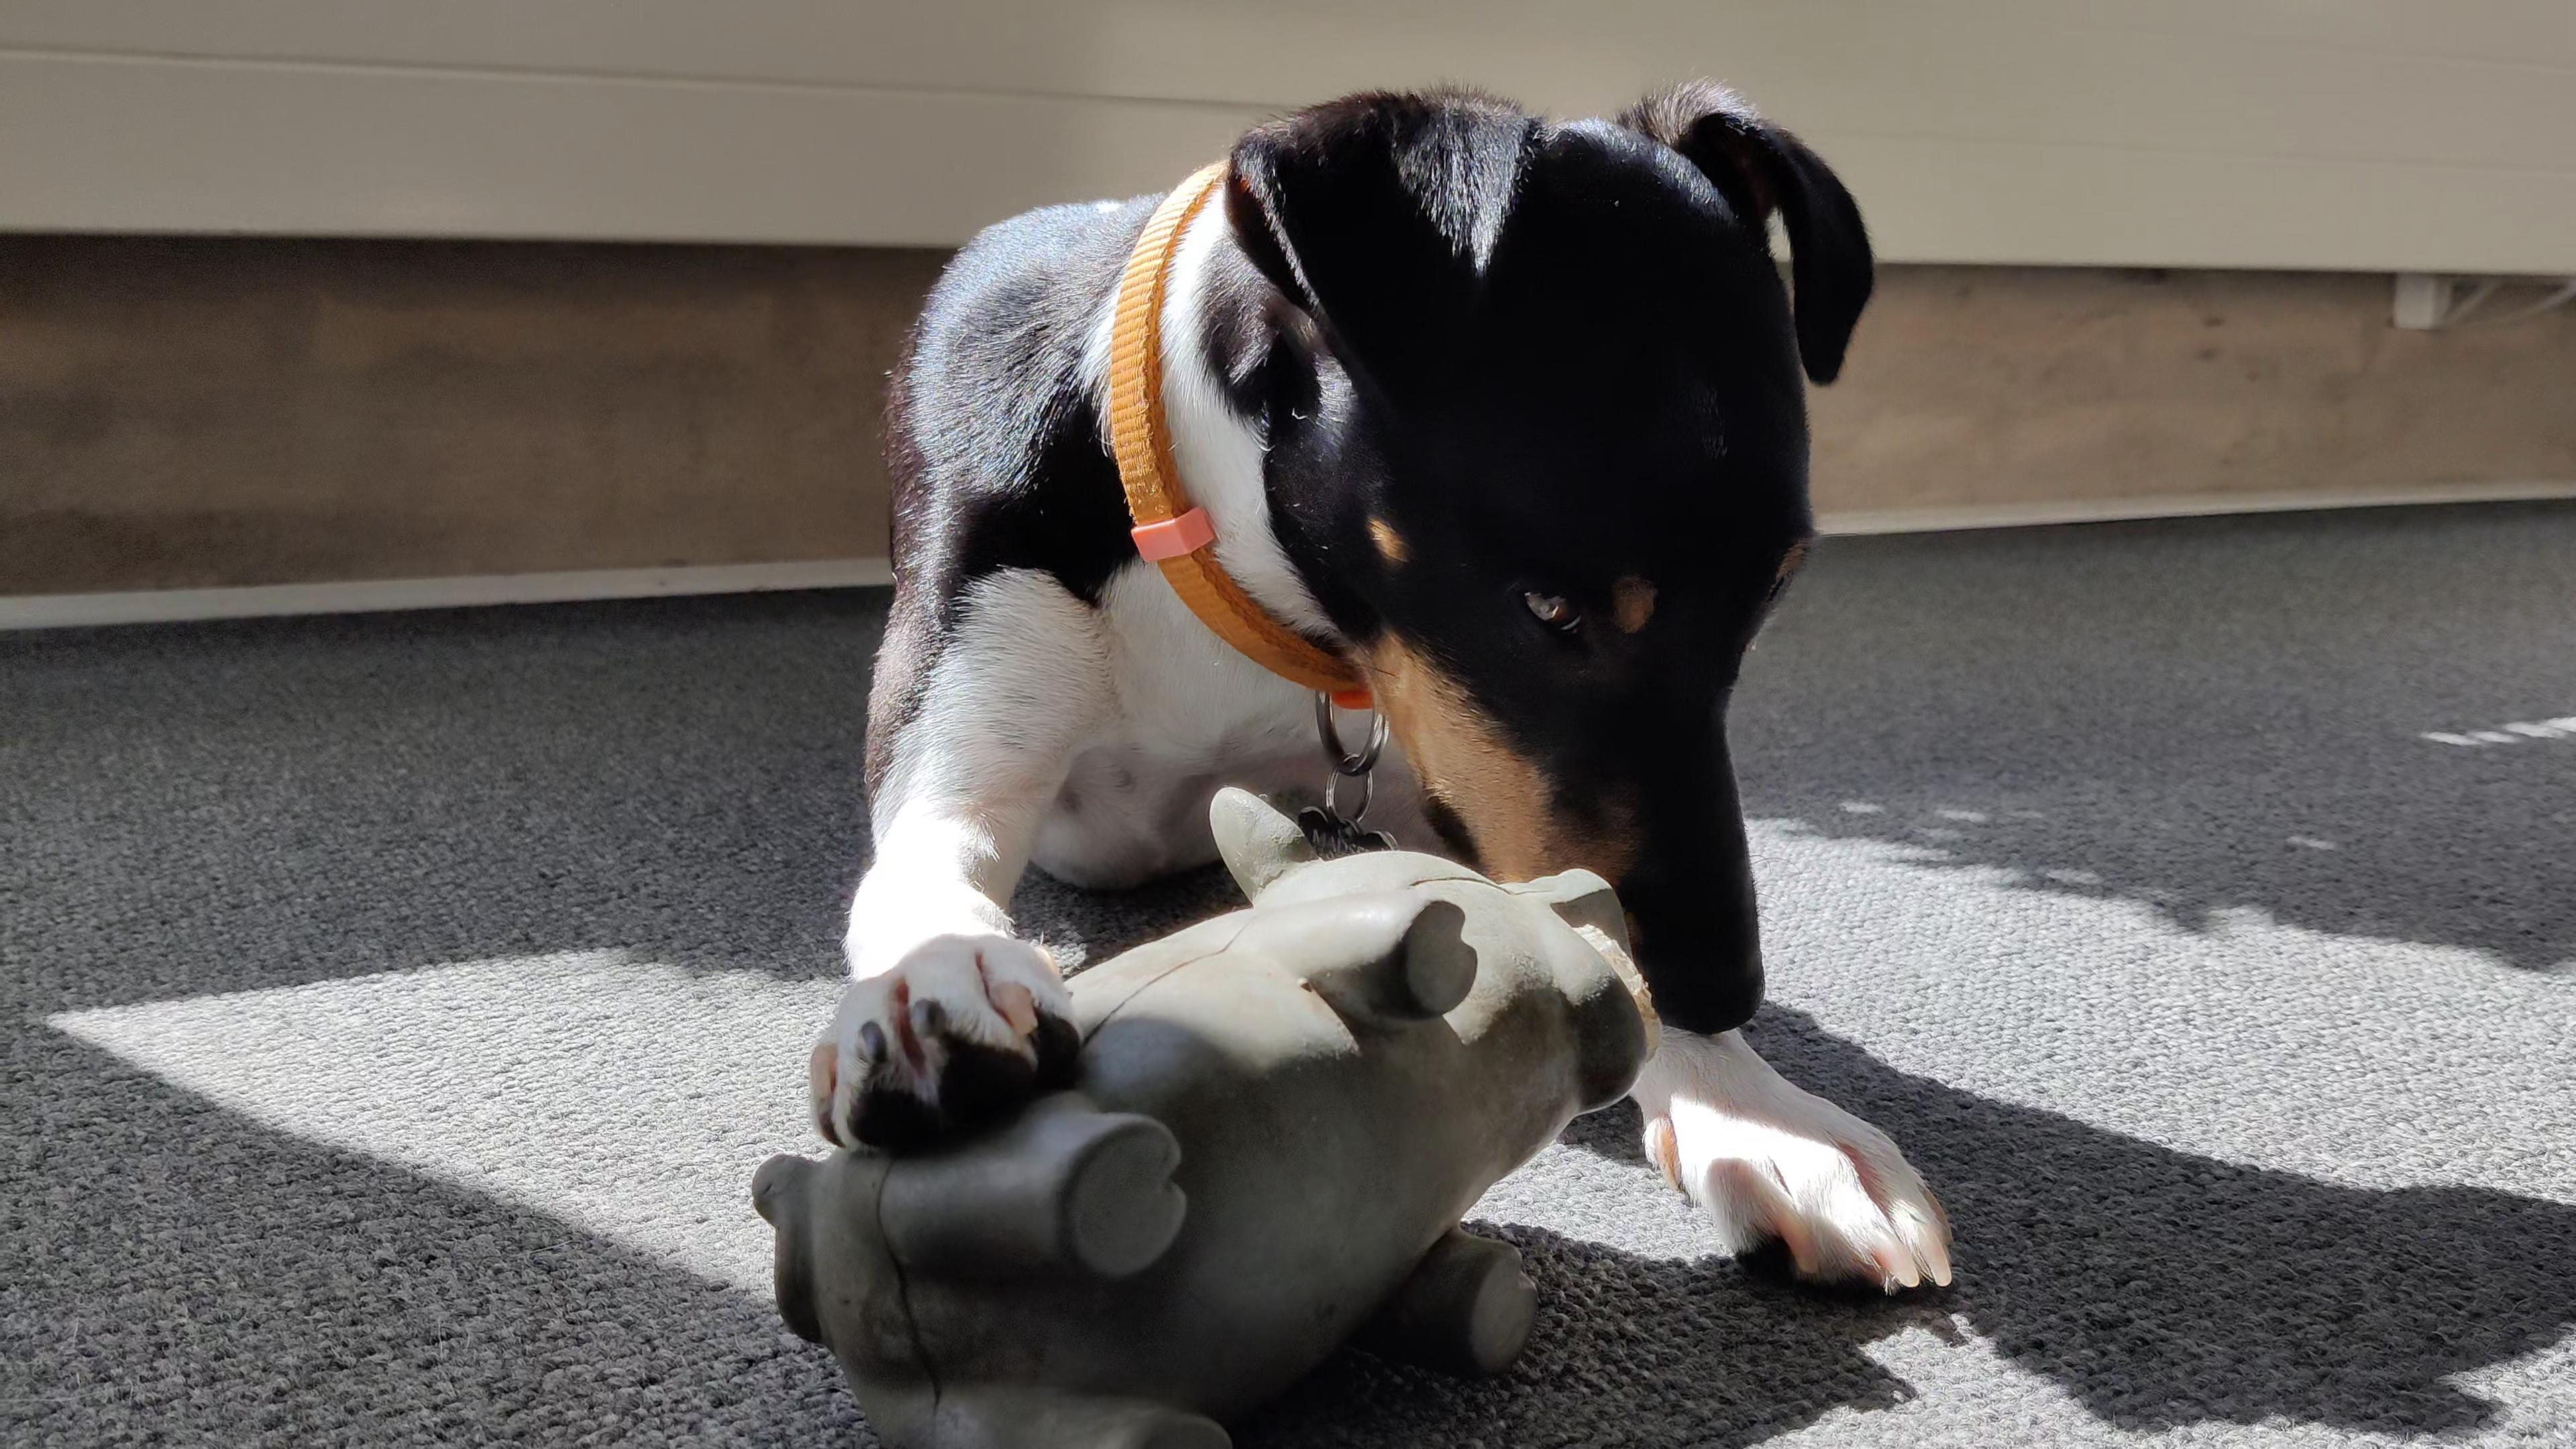Dog: (770, 53, 1983, 1320)
